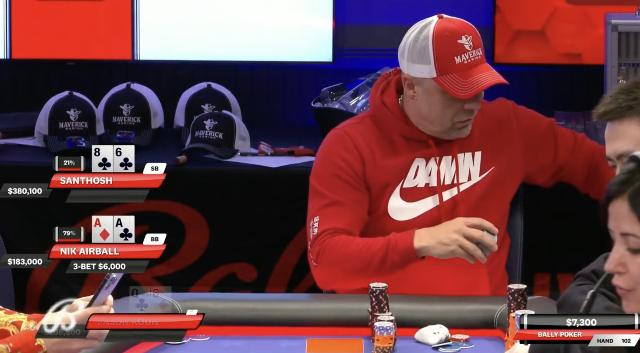6C: (115, 146, 134, 172)
8C: (92, 146, 111, 172)
AC: (115, 217, 134, 243)
AD: (93, 216, 113, 243)
